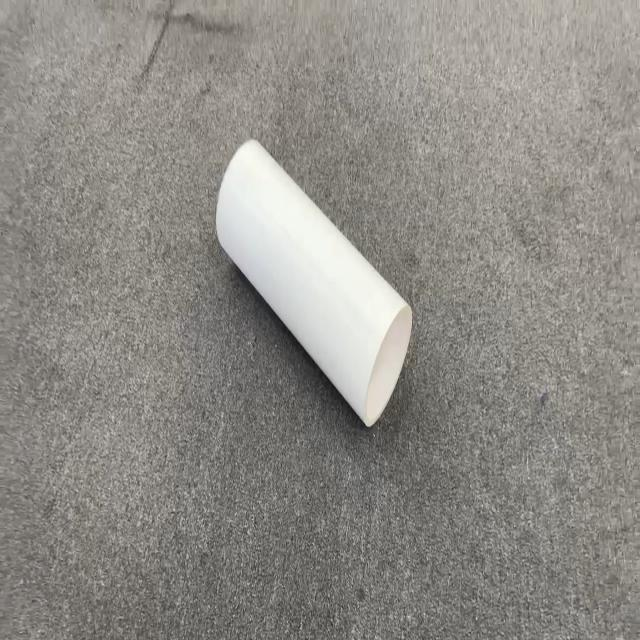coral: (215, 136, 413, 428)
